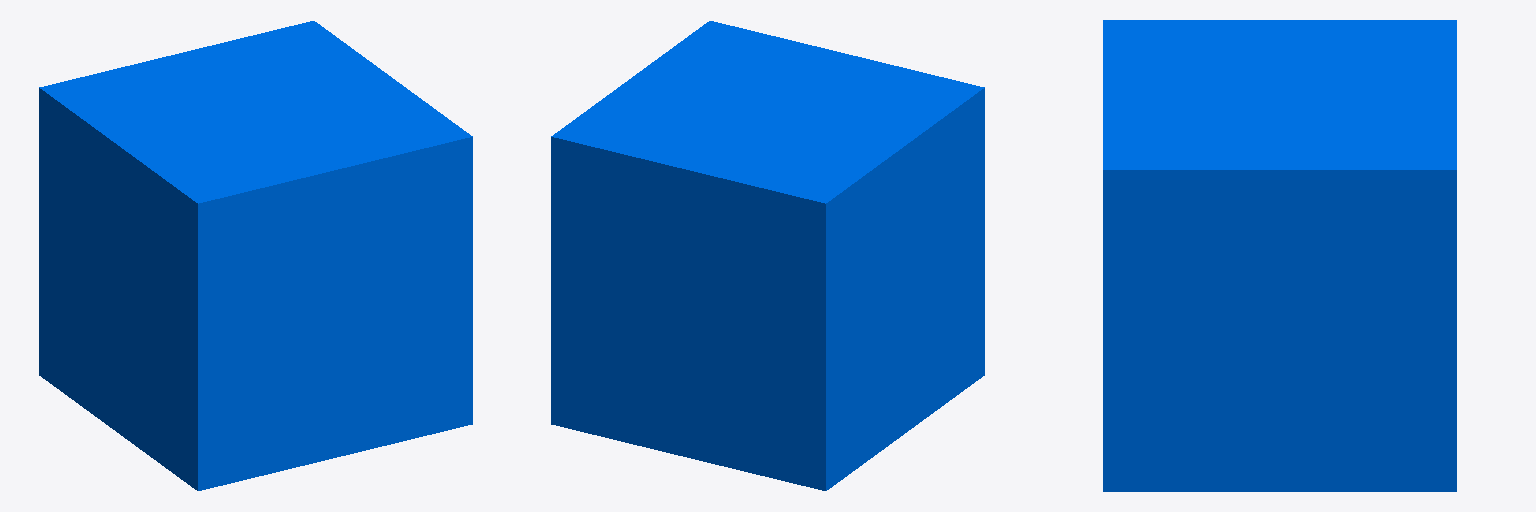
robot.urdf — box_description:
<robot name="box_description">
   <link name="link1_box" >
      <inertial>
         <origin xyz="0 0 0" rpy="0 0 0"/>
         <mass value="1"/>
         <inertia ixx="1"  ixy="0"  ixz="0" iyy="1" iyz="0" izz="1" />
      </inertial>

      <visual>
         <origin xyz="0 0 0" rpy="0 0 0" />
         <geometry>
            <box size="0.25 0.25 0.25" />
         </geometry>
         <material name="Blue">
            <color rgba="0 0.5 1.0 1.0"/>
         </material>
      </visual>

      <collision>
         <origin xyz="0 0 0" rpy="0 0 0"/>
         <geometry>
            <box size="0.25 0.25 0.25" />
         </geometry>
      </collision>
   </link>
</robot>

--- Facts derived from the render (not from the file) ---
3 views of the same robot in one strip: view 1: azimuth 30°, elevation 25°; view 2: azimuth 150°, elevation 25°; view 3: azimuth 270°, elevation 25° (orthographic).
Model box_description with 1 links and 0 joints (none), rooted at link1_box, posed every joint at zero.
Visible links, largest first — view 1: link1_box; view 2: link1_box; view 3: link1_box.
Link boxes in pixels (x1=…): link1_box: x1=39, y1=21, x2=472, y2=490; link1_box: x1=551, y1=21, x2=984, y2=490; link1_box: x1=1103, y1=20, x2=1456, y2=491.
Size in the robot's own frame: 0.25 by 0.25 by 0.25 metres.
Geometry: primitives only (box / cylinder / sphere), no mesh files.